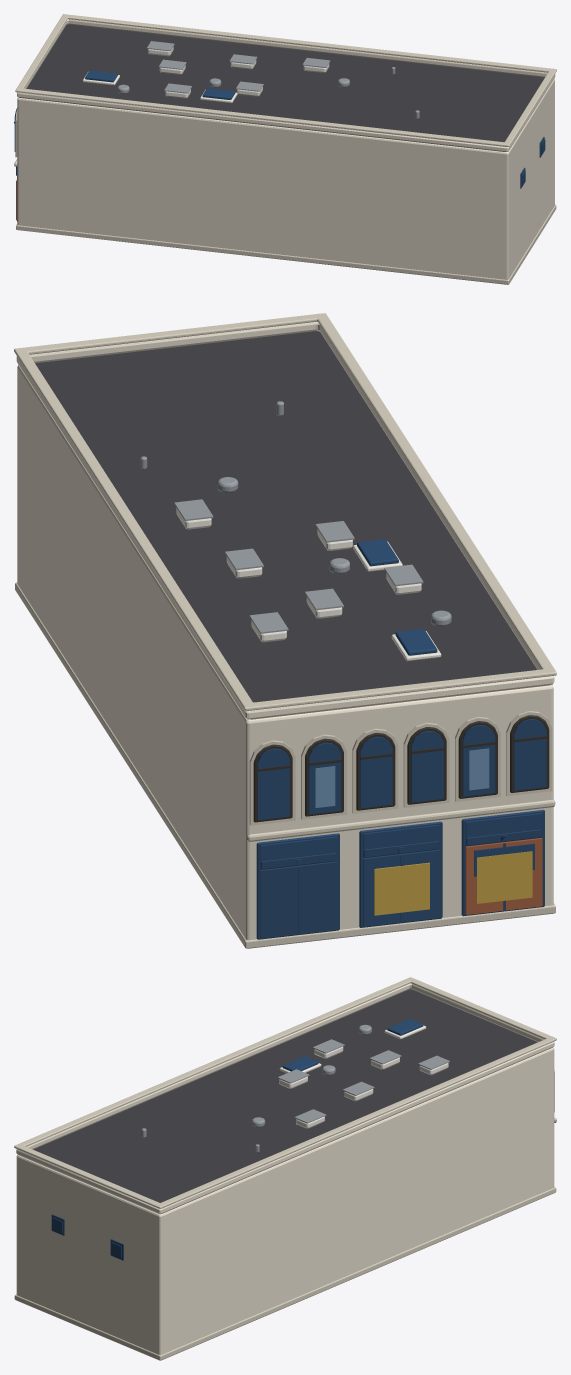
File: 27-south-park.optimized.glb
3 views of the same model, one above another, from view 1: azimuth 30°, elevation 25°; view 2: azimuth 150°, elevation 25°; view 3: azimuth 270°, elevation 25° (orthographic). The views are drawn at different scales.
Visible parts, largest first — view 1: body, grp_Toy_stone, parapet, grp_Toy_steel, grp_Toy_trim, grp_Toy_glass; view 2: body, grp_Toy_stone, grp_Toy_glass, grp_Toy_navy, parapet, grp_Toy_gold_Glow, grp_Toy_ink, grp_Toy_steel, grp_Toy_trim, bay_sw_open, grp_Toy_glass_Glow; view 3: body, grp_Toy_stone, parapet, grp_Toy_steel, grp_Toy_trim, grp_Toy_glass.
Part boxes in pixels (x1,y1,x2,y2): body: (17, 24, 554, 279); grp_Toy_stone: (14, 14, 556, 284); parapet: (17, 19, 555, 151); grp_Toy_steel: (117, 41, 419, 118); grp_Toy_trim: (83, 47, 329, 103); grp_Toy_glass: (14, 70, 545, 186); body: (17, 331, 553, 940); grp_Toy_stone: (14, 313, 556, 948); grp_Toy_glass: (257, 539, 546, 926); grp_Toy_navy: (256, 809, 544, 939); parapet: (16, 322, 554, 719); grp_Toy_gold_Glow: (374, 851, 532, 915); grp_Toy_ink: (253, 715, 549, 822); grp_Toy_steel: (140, 401, 451, 633); grp_Toy_trim: (176, 507, 441, 661); bay_sw_open: (465, 838, 542, 914); grp_Toy_glass_Glow: (315, 748, 489, 807); body: (16, 989, 554, 1355); grp_Toy_stone: (14, 977, 556, 1360); parapet: (16, 983, 554, 1214); grp_Toy_steel: (141, 1024, 449, 1152); grp_Toy_trim: (279, 1025, 448, 1128); grp_Toy_glass: (52, 1018, 423, 1258).
Bounding box in the file's own units: 32.61 × 10.2 × 32.51.
